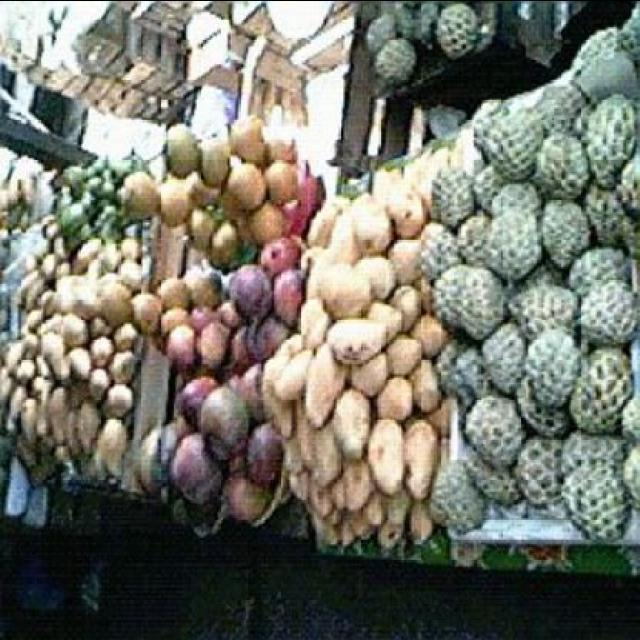Potato: (262, 142, 450, 546), (0, 232, 142, 488)
